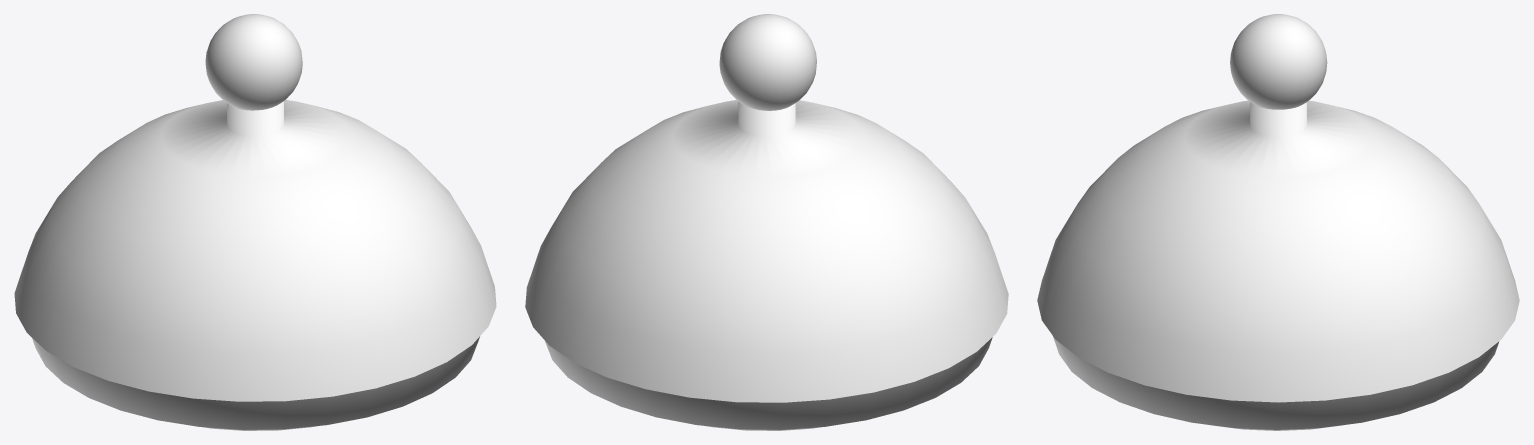
File: lampada_quirofan.fbx
3 renders of one model, left to right at view 1: azimuth 30°, elevation 25°; view 2: azimuth 150°, elevation 25°; view 3: azimuth 270°, elevation 25°, orthographic.
Parts seen in each view (by area): view 1: Sphere_010, Sphere_003, Sphere_015; view 2: Sphere_010, Sphere_003, Sphere_015; view 3: Sphere_010, Sphere_003, Sphere_015.
Part boxes in pixels (x1,y1,x2,y2): Sphere_010: (14, 100, 496, 401); Sphere_003: (32, 336, 479, 430); Sphere_015: (205, 14, 302, 110); Sphere_010: (525, 100, 1008, 402); Sphere_003: (544, 337, 992, 430); Sphere_015: (719, 14, 816, 110); Sphere_010: (1037, 100, 1519, 402); Sphere_003: (1053, 336, 1499, 430); Sphere_015: (1230, 14, 1327, 109).
Bounding box in the file's own units: 9.91 × 8.25 × 9.91.
6 materials, 3 textured.
